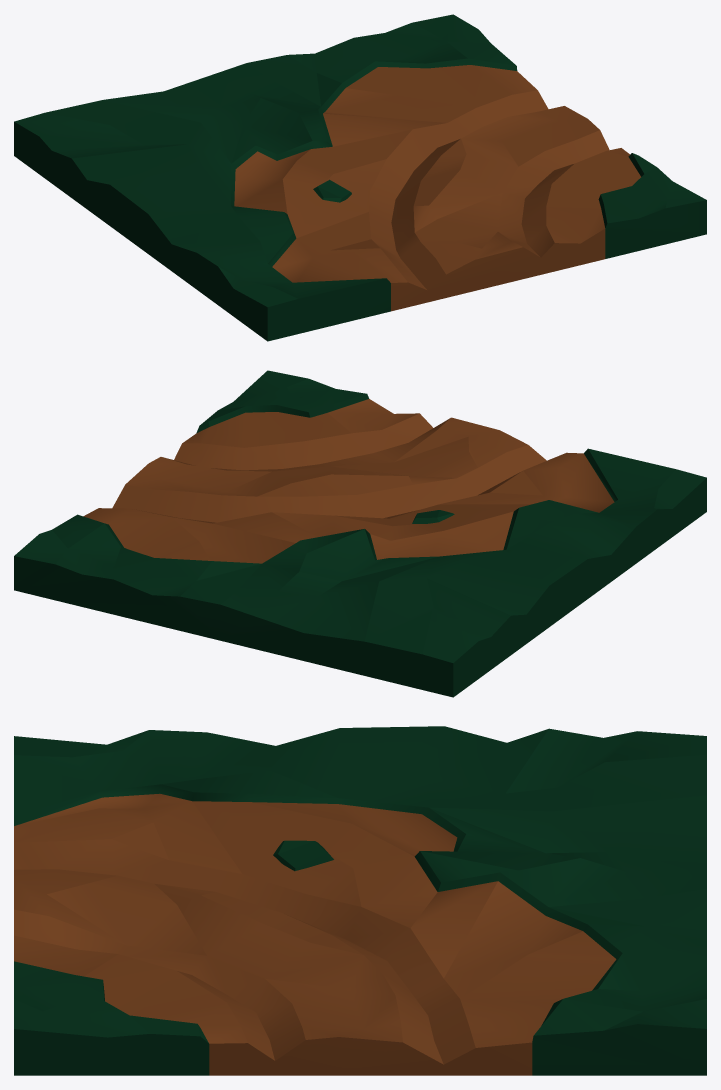
The model's file is Ground_Road_Turn_LU.fbx.
3 renders of one model, top to bottom at view 1: azimuth 30°, elevation 25°; view 2: azimuth 150°, elevation 25°; view 3: azimuth 270°, elevation 25°, orthographic. The views are drawn at different scales.
Parts seen in each view (by area): view 1: Ground_Road_Turn_LU; view 2: Ground_Road_Turn_LU; view 3: Ground_Road_Turn_LU.
Part boxes in pixels (x1,y1,x2,y2): Ground_Road_Turn_LU: (14,14,706,341); Ground_Road_Turn_LU: (14,370,706,697); Ground_Road_Turn_LU: (14,726,706,1075).
Size of the model in its own units: 147 by 14.69 by 147.
